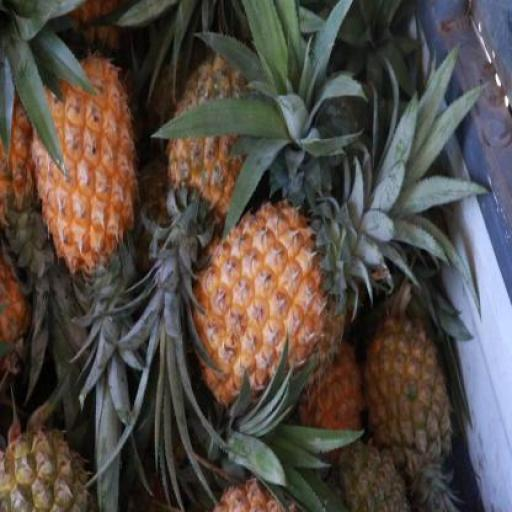------------------------------: (362, 306, 448, 478)
Pineapple - v8 v1: (187, 199, 336, 409), (24, 50, 136, 276)
